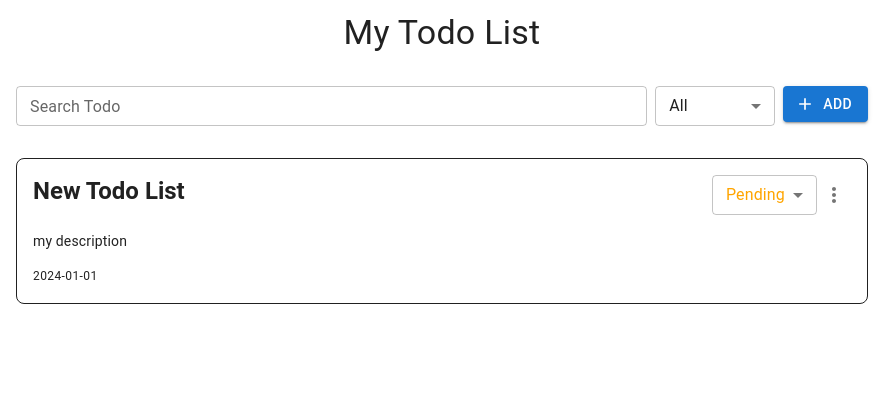
Test: Home › Should have an edit button inside of the todo
Click the 2nd button: point(834, 195) [817, 178, 851, 212]
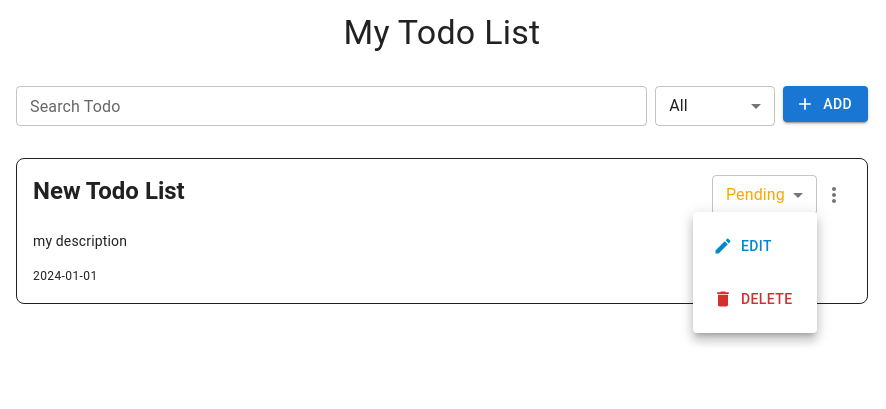
Check: the button "Edit" is shown
Click the button "Edit": point(744, 246) [709, 228, 780, 264]
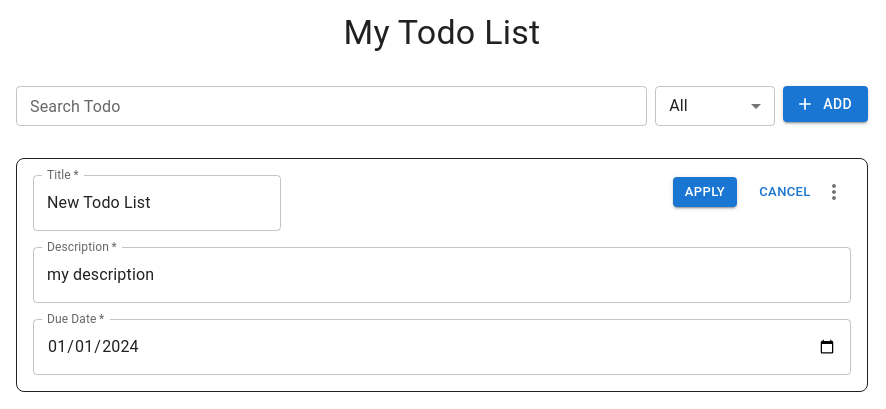
Check: the button "Edit" is gone
Check: the button "Apply" is shown, box [673, 177, 737, 207]
Now let's change the details
Replace the text in the field labelled "Title" with "Edited Title": point(157, 203) [33, 175, 281, 231]
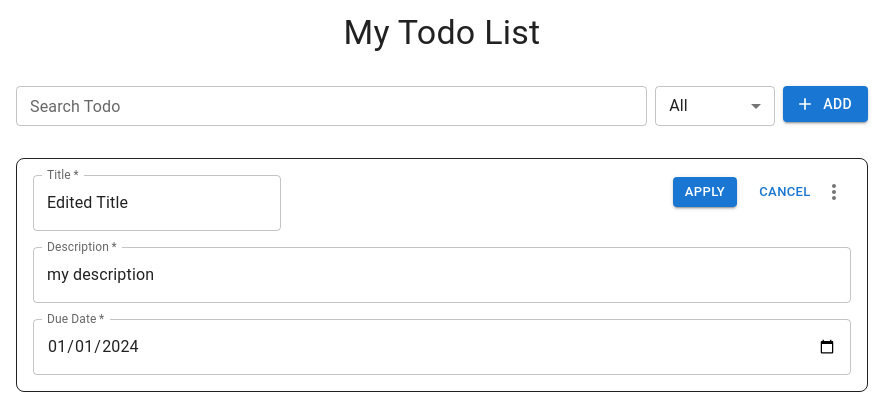
Replace the text in the field labelled "Description" with "Edited Description": point(442, 275) [33, 247, 851, 303]
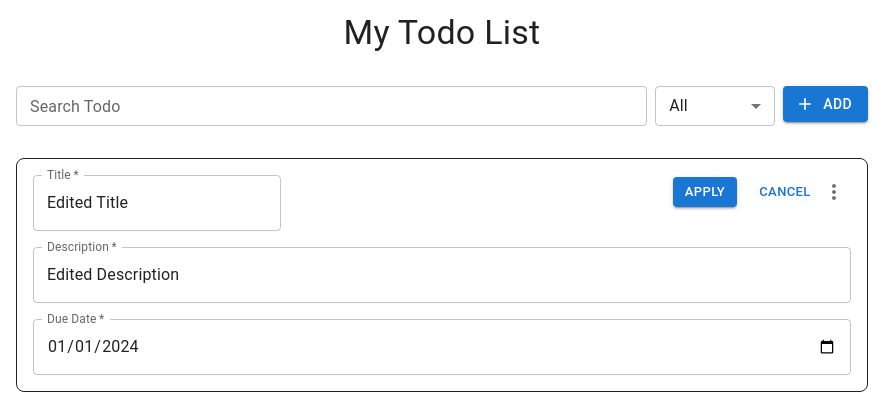
In the date field labelled "Due Date *": point(442, 347) [33, 319, 851, 375], type "2023-01-02"
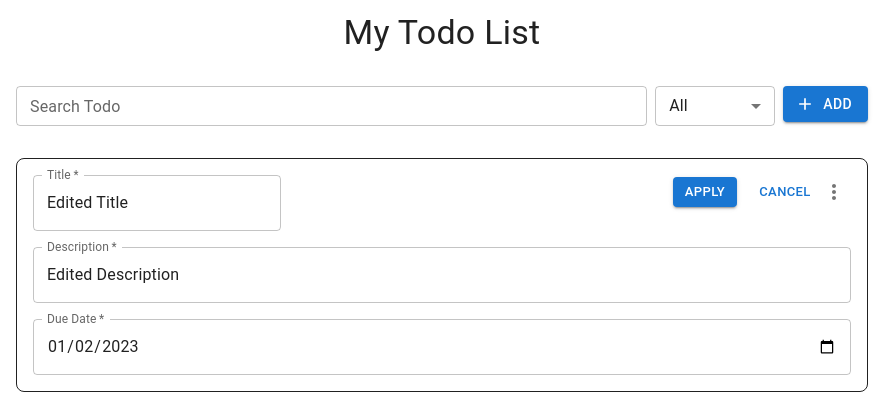
Let's apply the changes
Click the button "Apply": point(705, 192) [673, 177, 737, 207]
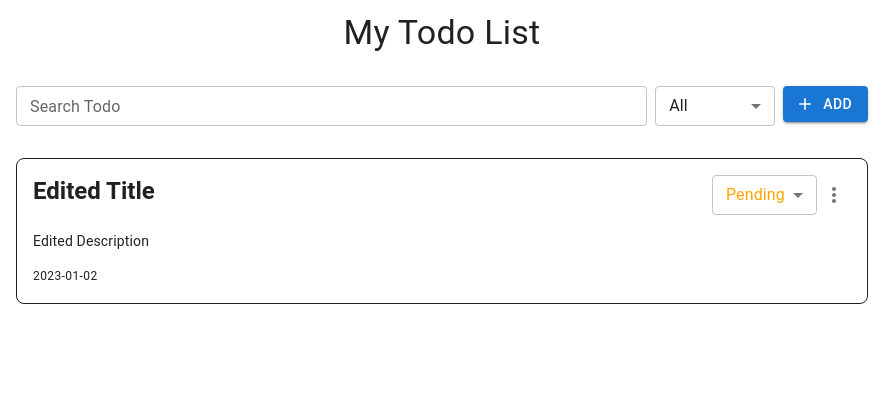
Check: the element with test id "todo-0-Edited Title" is shown, box [16, 158, 868, 304]
